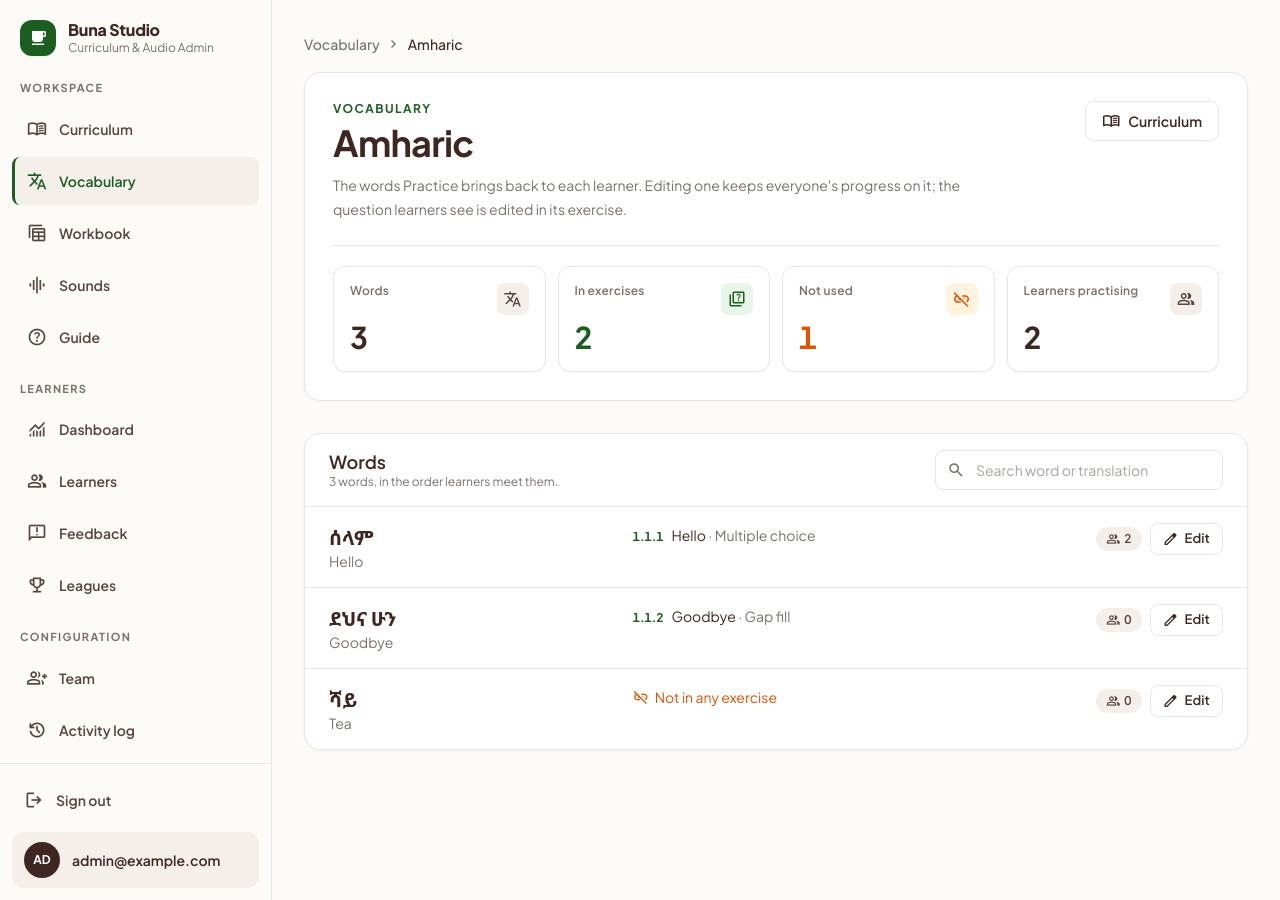
Test case: the vocabulary page › will not save an empty field, and Cancel or Escape closes the form unsaved
expect the heading "Amharic" is shown: met, box [333, 120, 474, 165]
Click the button with aria-label "Edit ሰላም". click: [1186, 539]
box: [1150, 523, 1223, 555]
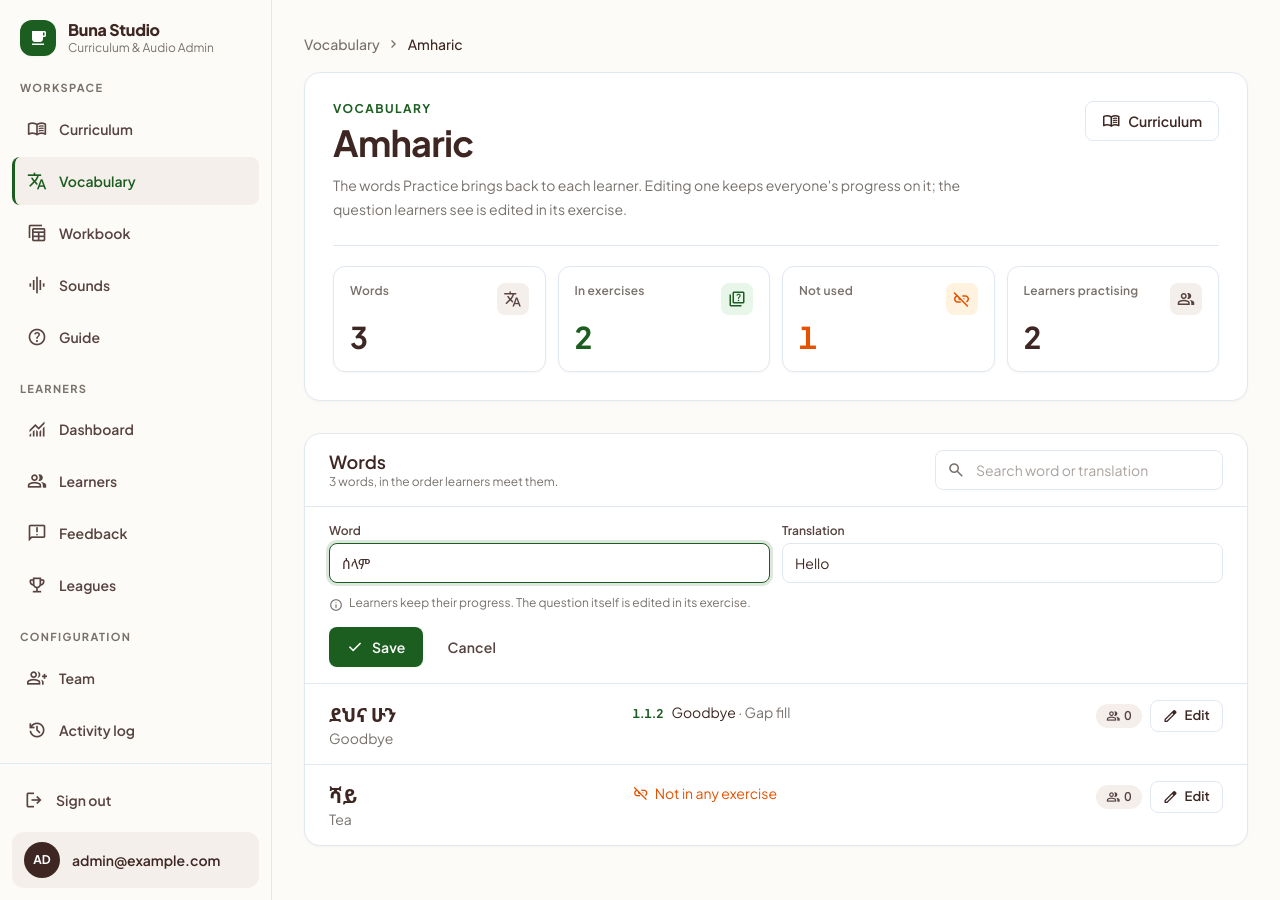
Clear the field labelled "Word". click: [550, 563]
box: [329, 543, 770, 583]
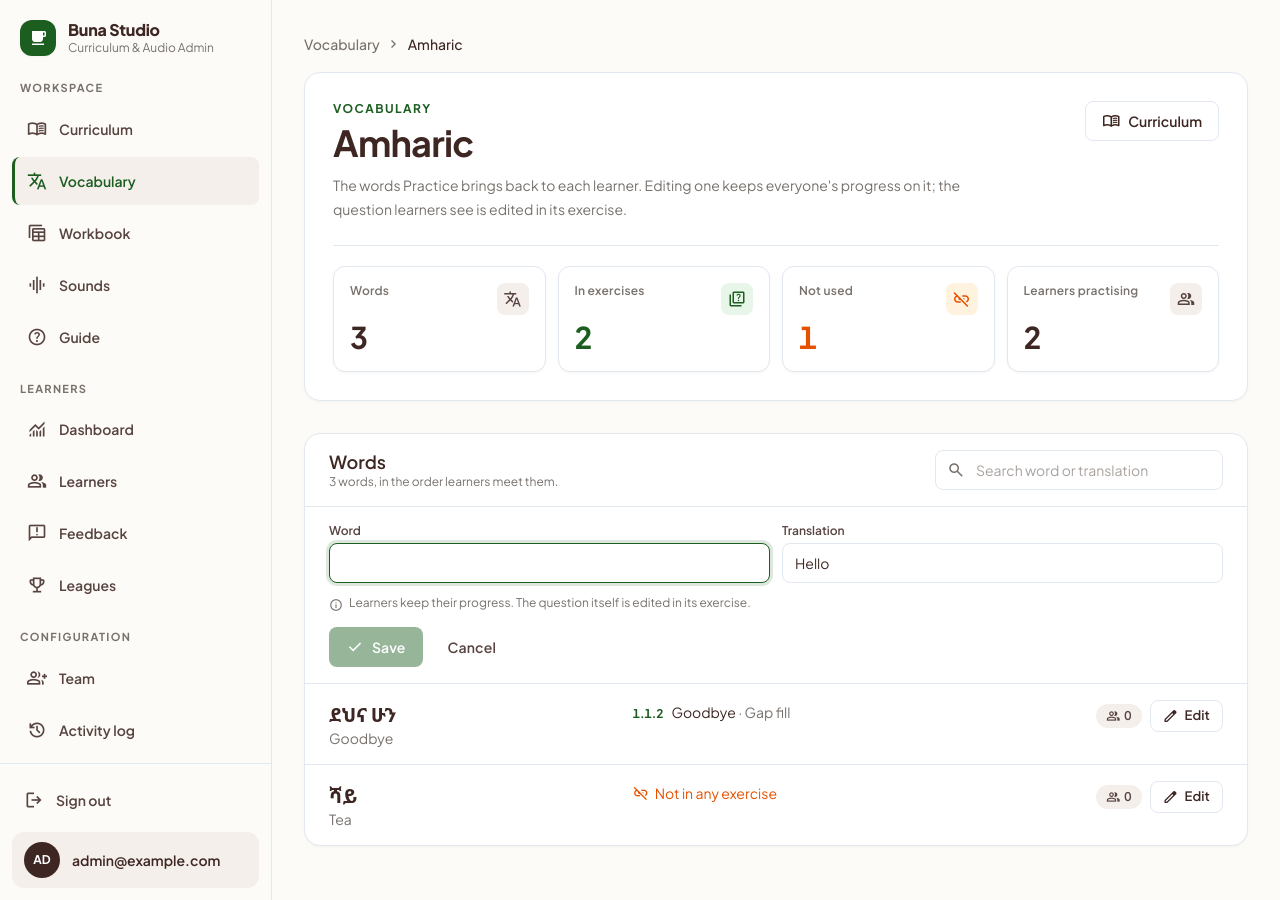
expect the button "Save" is disabled: met, box [329, 627, 423, 667]
Click the button "Cancel". click: [472, 647]
box: [431, 627, 513, 667]
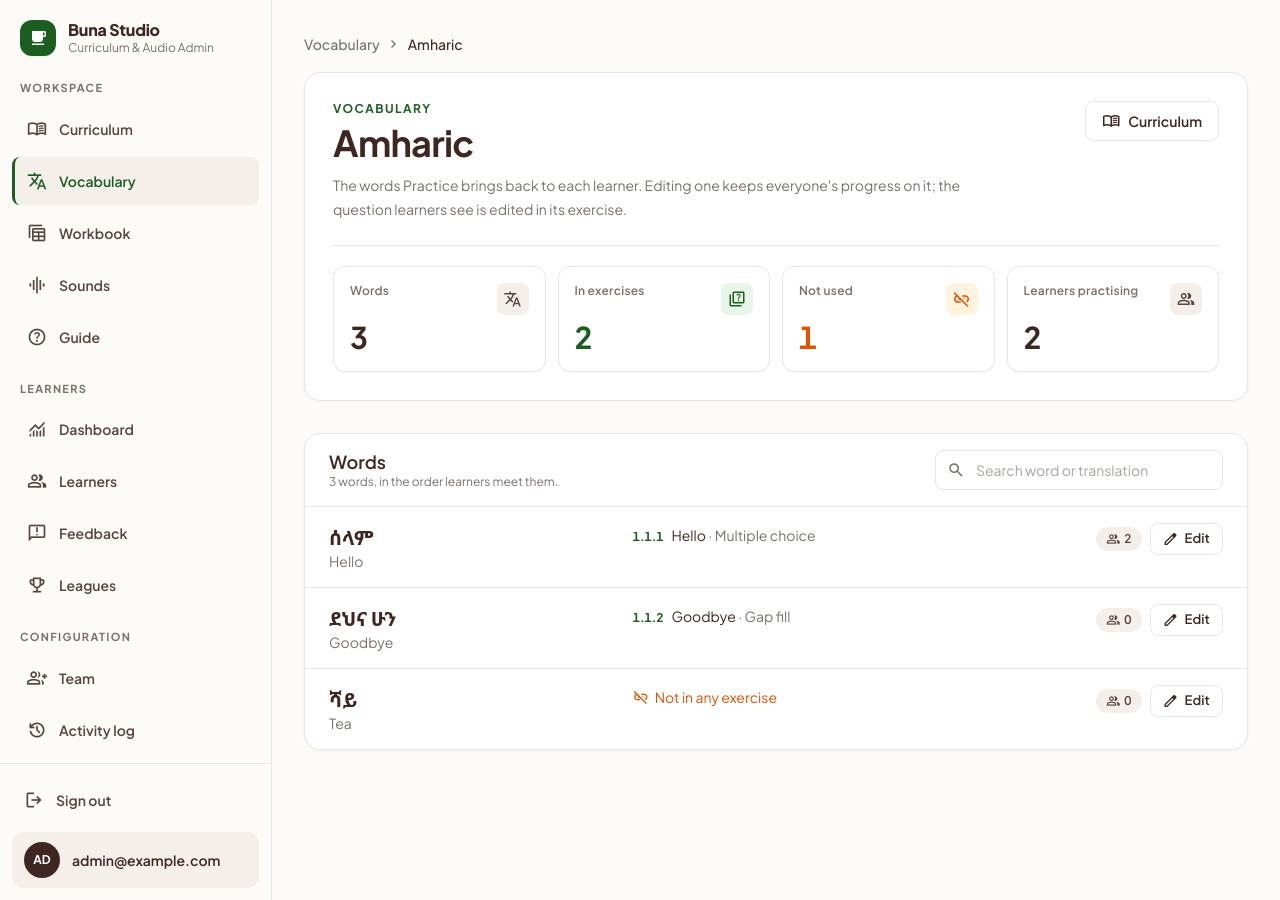
expect the form is gone: met
Click the button with aria-label "Edit ሰላም". click: [1186, 539]
box: [1150, 523, 1223, 555]
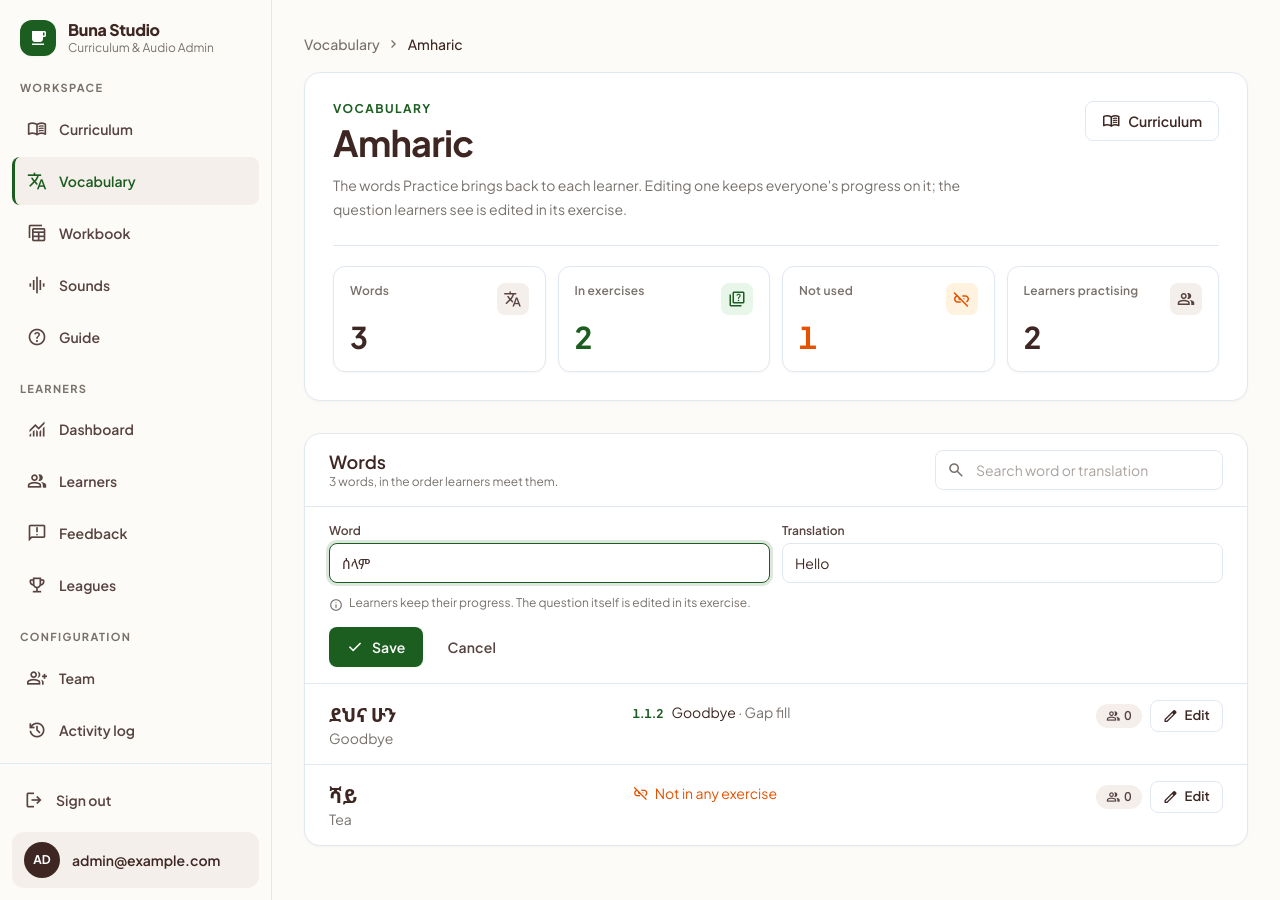
Type "x" into the field labelled "Word". click: [550, 563]
box: [329, 543, 770, 583]
Then press Escape
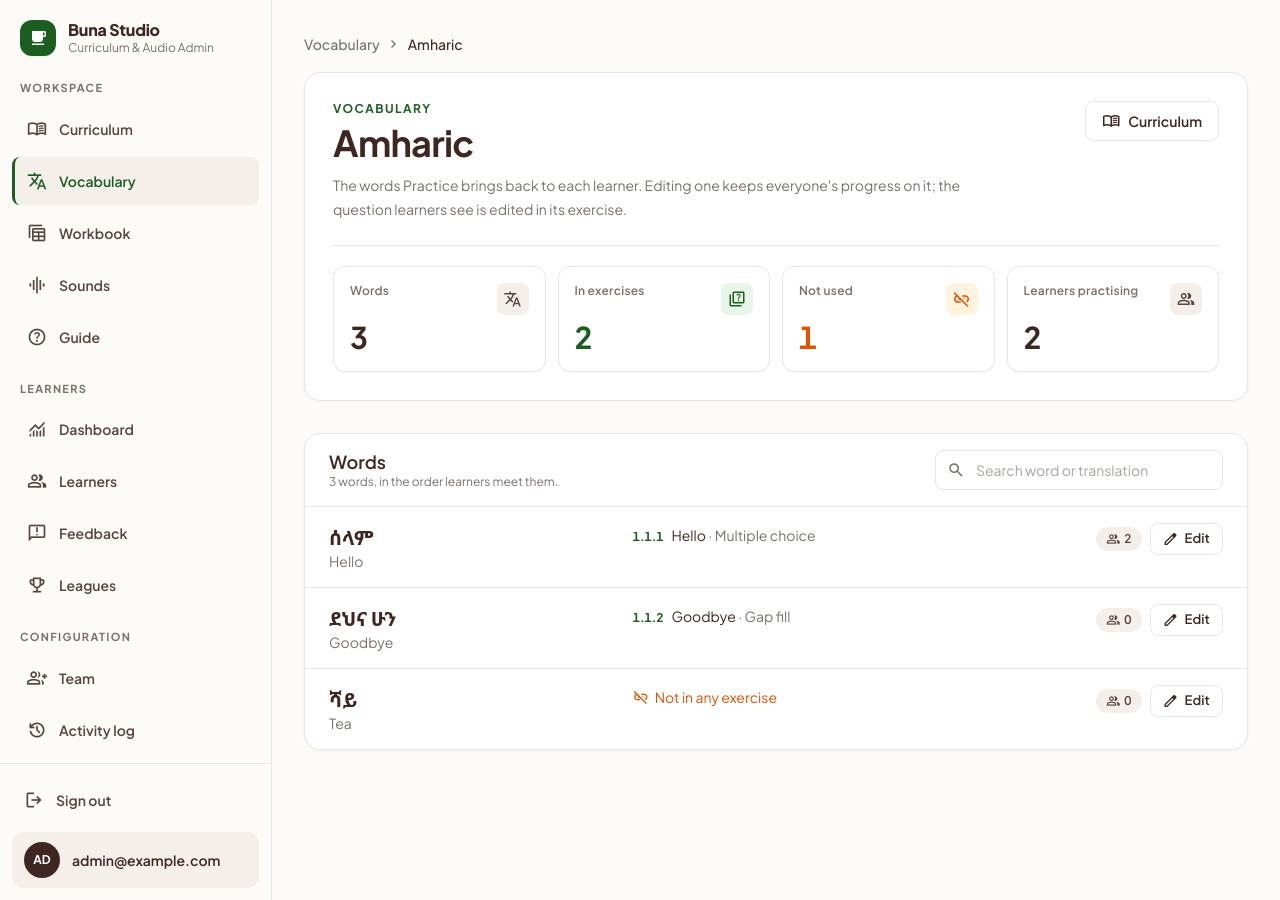
expect the form is gone: met
